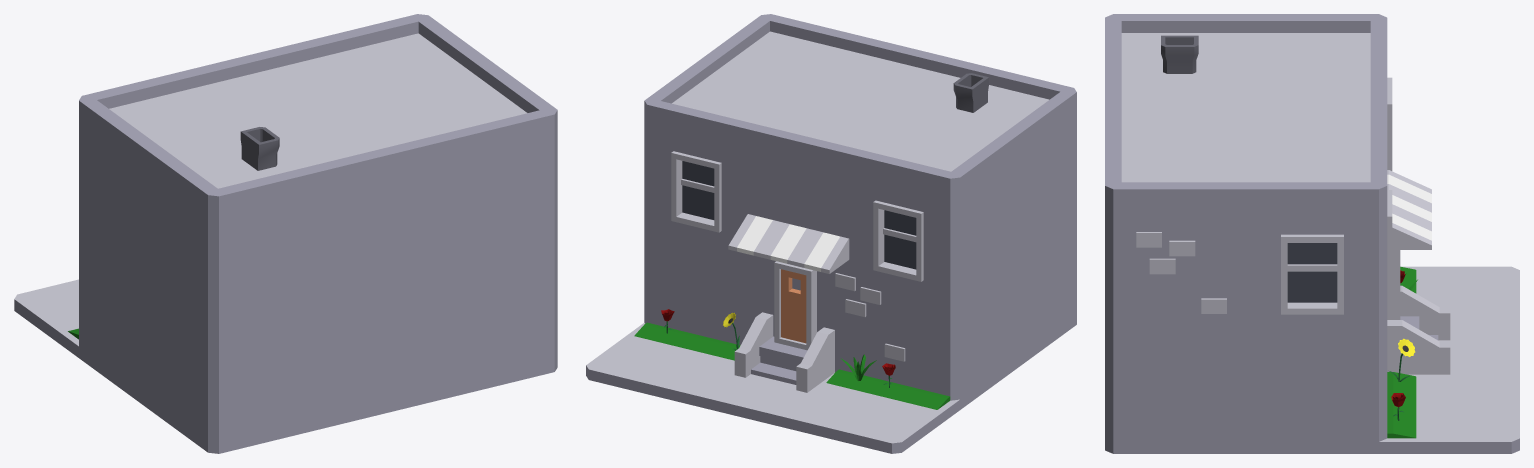
File: living_happy.fbx
3 renders of one model, left to right at view 1: azimuth 30°, elevation 25°; view 2: azimuth 150°, elevation 25°; view 3: azimuth 270°, elevation 25°, orthographic. The views are drawn at different scales.
Visible parts, largest first — view 1: wall_straight_13, wall_straight_8, wall_straight_12, wall_straight_6, wall_straight_7, wall_straight_14, roof_corner_25, roof_corner_24, roof_corner_27, roof_corner_26, roof_side_29, roof_side_30 (+6 smaller); view 2: wall_window_43, wall_window_42, wall_straight_10, roof_corner_27, roof_corner_26, roof_corner_25, wall_straight_9, roof_side_29, wall_straight_16, roof_corner_24, wall_straight_5, roof_side_30 (+14 smaller); view 3: wall_window_41, wall_straight_1, wall_straight_51, wall_straight_23, roof_corner_25, roof_corner_26, roof_corner_27, roof_corner_24, roof_square_34, roof_side_30, roof_side_29, roof_square_36 (+11 smaller).
Part boxes in pixels (x1,y1,x2,y2): wall_straight_13: (208,192,330,336); wall_straight_8: (443,251,557,399); wall_straight_12: (443,134,557,281); wall_straight_6: (219,309,330,453); wall_straight_7: (331,282,442,426); wall_straight_14: (331,165,442,309); roof_corner_25: (367,61,557,164); roof_corner_24: (143,129,333,219); roof_corner_27: (79,68,263,170); roof_corner_26: (304,14,492,104); roof_side_29: (262,100,445,192); roof_side_30: (191,41,376,129); wall_window_43: (849,175,950,305); wall_window_42: (647,126,748,255); wall_straight_10: (647,231,748,345); roof_corner_27: (847,118,1018,199); roof_corner_26: (644,57,815,150); roof_corner_25: (703,14,874,96); wall_straight_9: (849,282,950,396); roof_side_29: (813,38,975,121); wall_straight_16: (950,156,1018,305); roof_corner_24: (907,63,1076,155); wall_straight_5: (950,262,1018,409); roof_side_30: (745,92,916,174); wall_window_41: (1246,210,1387,333); wall_straight_1: (1246,330,1387,453); wall_straight_51: (1113,333,1245,453); wall_straight_23: (1113,213,1245,333); roof_corner_25: (1105,126,1254,213); roof_corner_26: (1237,126,1387,213); roof_corner_27: (1237,14,1387,88); roof_corner_24: (1105,14,1254,88); roof_square_34: (1379,379,1519,453); roof_side_30: (1237,70,1387,145); roof_side_29: (1105,70,1254,145); roof_square_36: (1401,266,1519,329).
Size of the model in its own units: 31.65 by 23.3 by 31.25.
